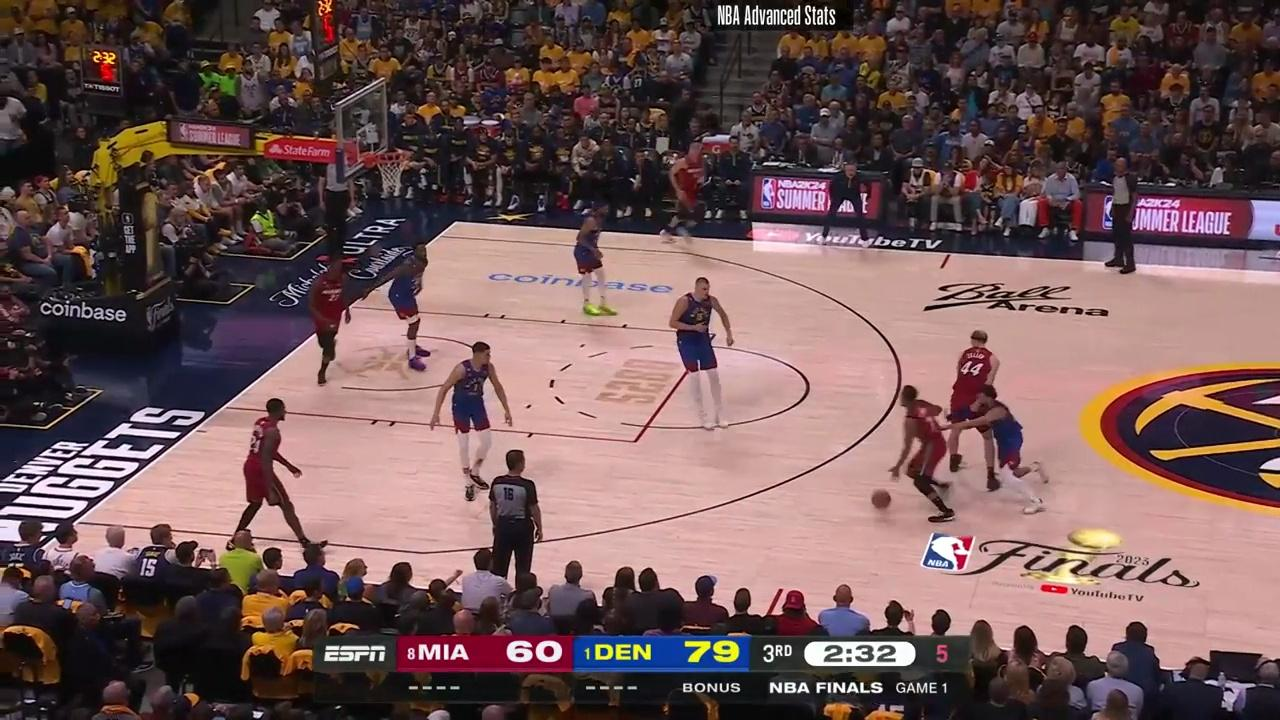Backboard: (343, 80, 386, 184)
Ball: (870, 489, 892, 511)
Basket: (372, 152, 405, 193)
Person: (231, 395, 318, 562), (953, 381, 1058, 517), (941, 325, 1012, 491), (437, 343, 514, 488), (667, 277, 738, 434), (888, 381, 962, 521), (371, 239, 434, 371), (299, 255, 358, 385), (567, 205, 623, 324), (661, 141, 711, 249), (676, 276, 734, 358)
Referee: (470, 450, 549, 589), (1104, 157, 1145, 271)
Shot Clock: (79, 46, 122, 107), (310, 0, 340, 82)
